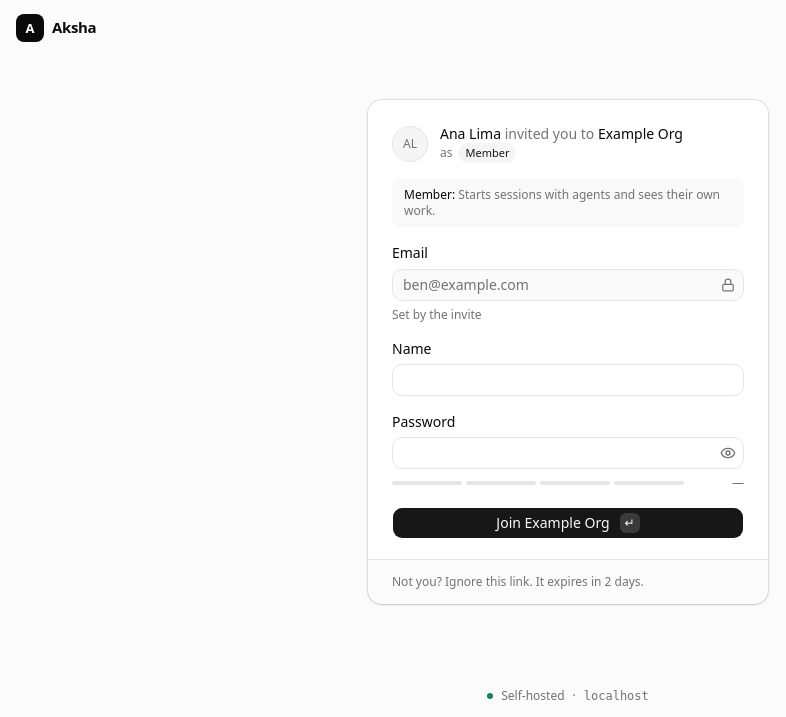
AcceptInvite › shows the server's refusal and keeps the form
The width and height of the screenshot is (786, 717).
Type "Ben Ito" into the field labelled "Name". click: (568, 380)
box: [392,364,744,396]
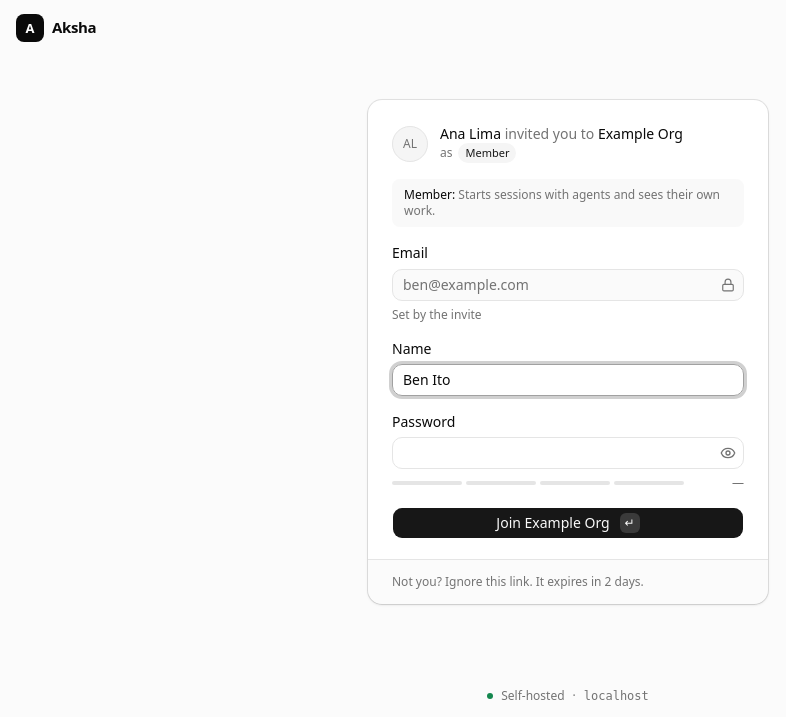
Type "a-long-password" into the password field labelled "Password". click: (554, 453)
box: [393,437,716,469]
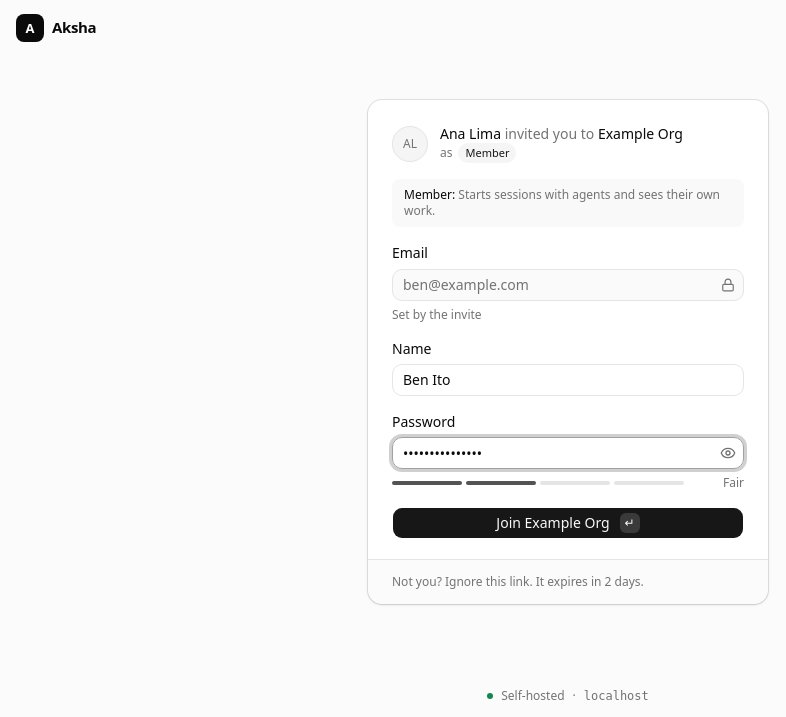
Click the button "Join Example Org ↵". click: (568, 523)
box: [392,507,744,539]
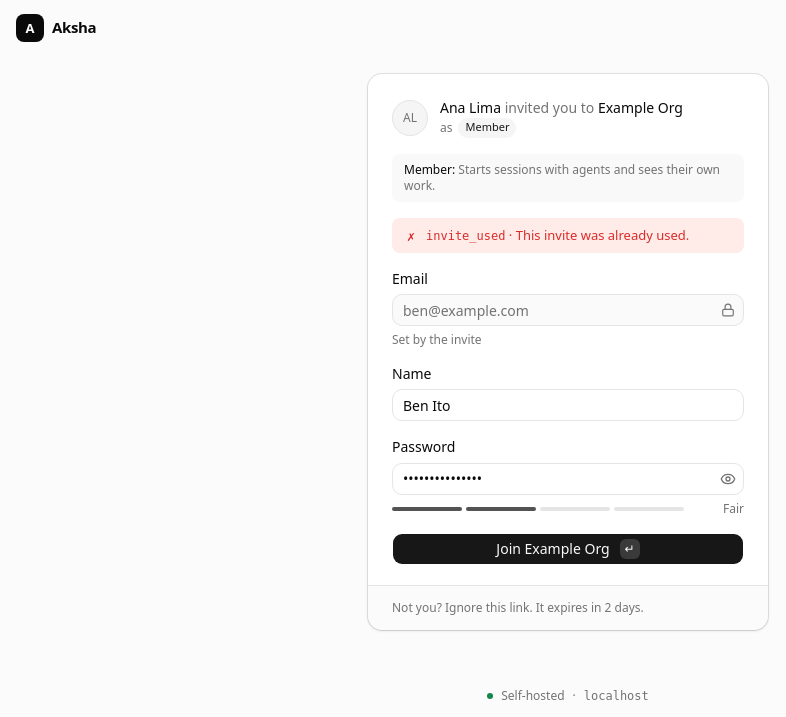
Check: the message shows "invite_used", box [426,229,506,243]
